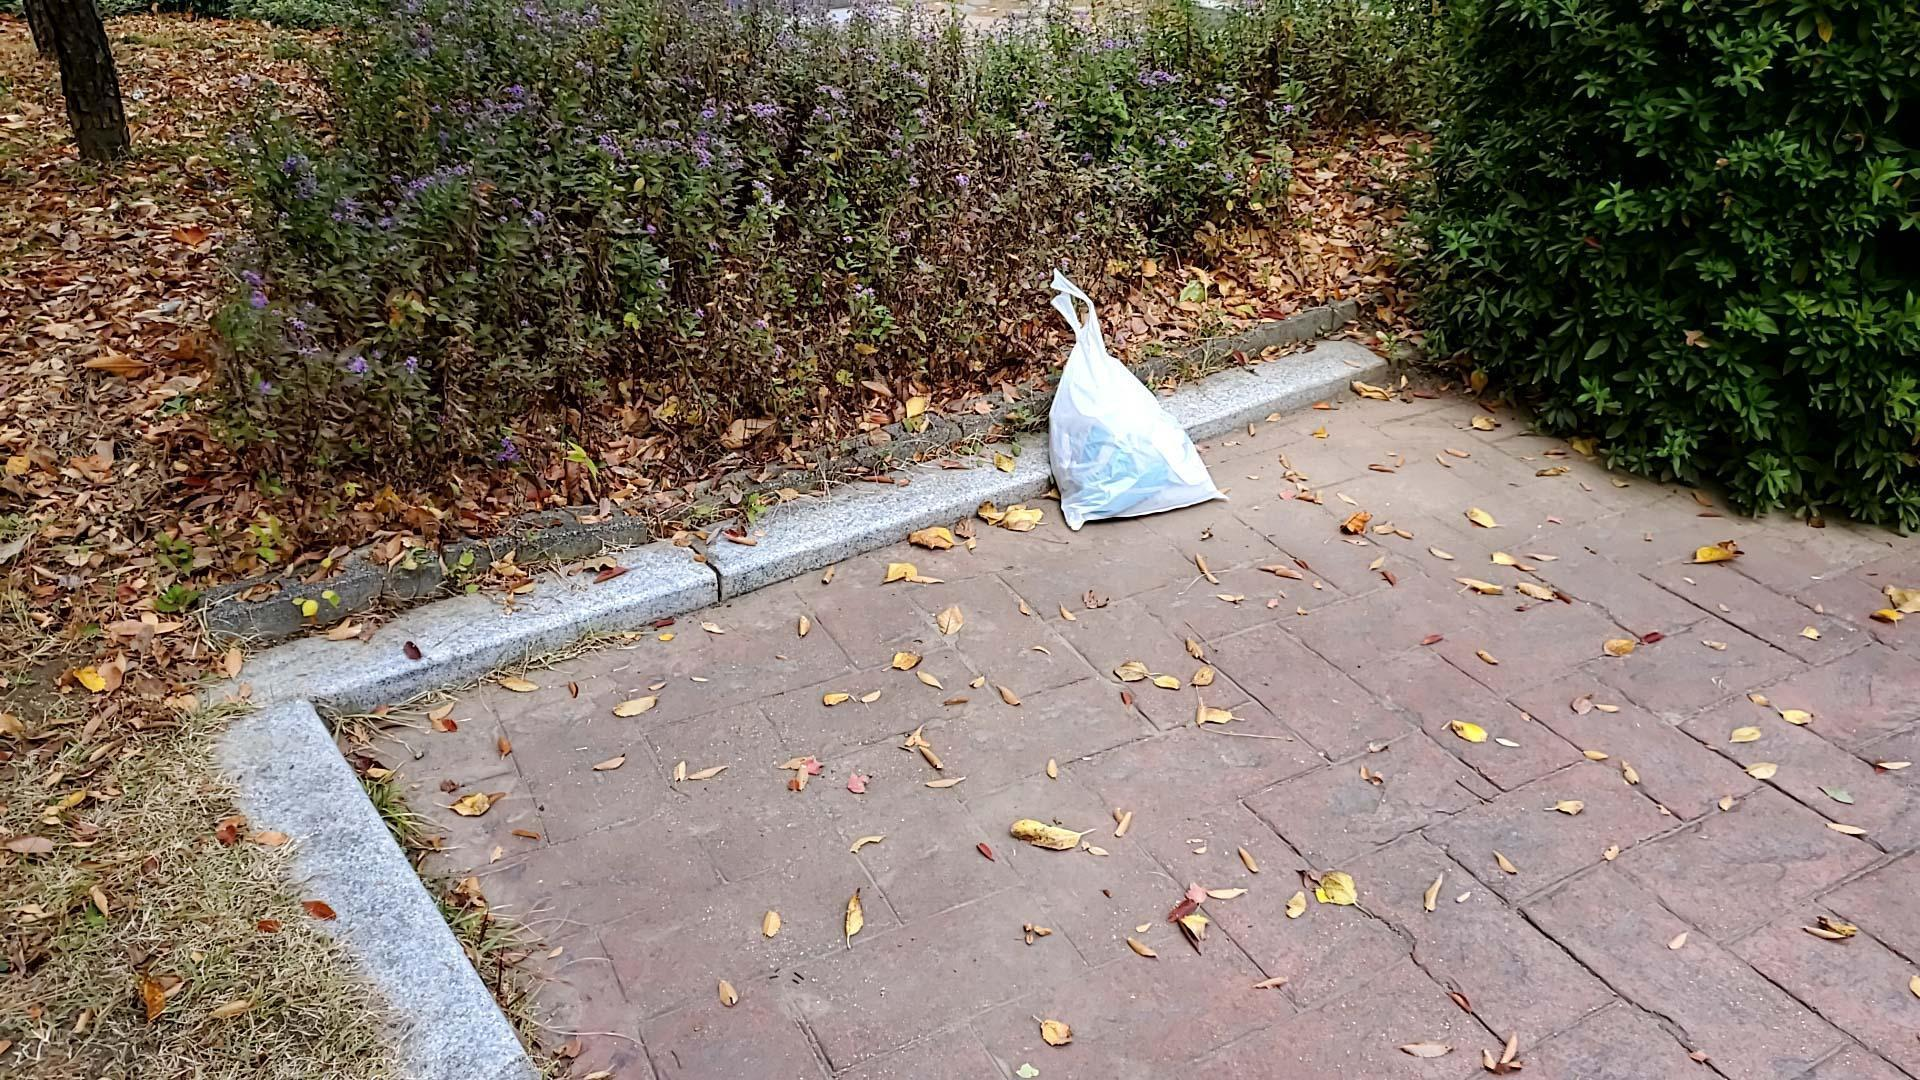white_bag: (1025, 252, 1234, 542)
